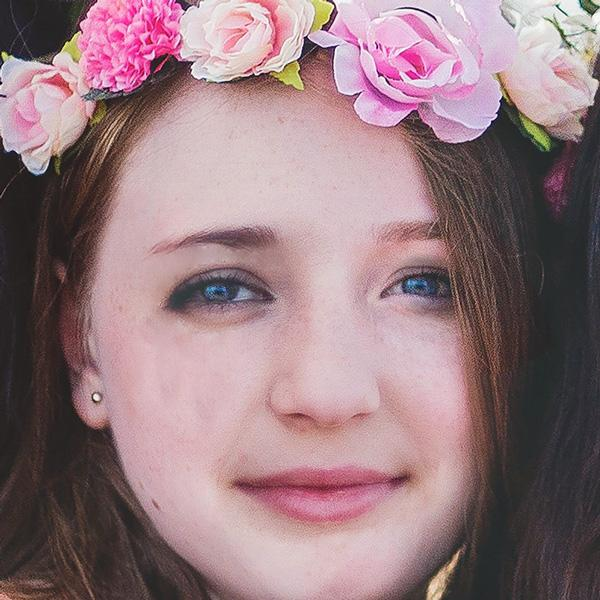Eyes: (152, 254, 287, 337), (369, 245, 477, 326)
